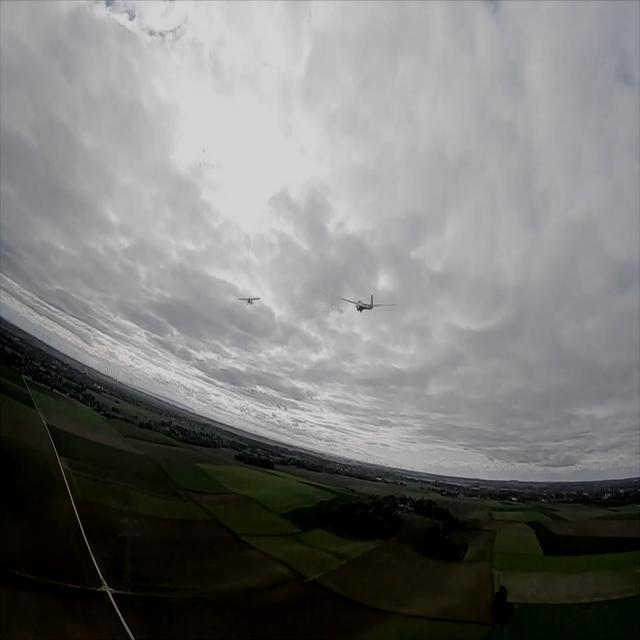iha: (340, 288, 394, 319), (237, 294, 262, 308)
